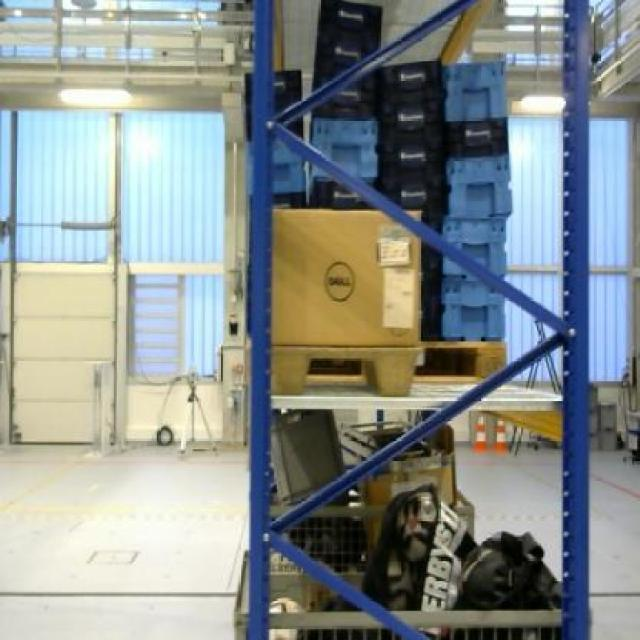box: (269, 207, 420, 347)
